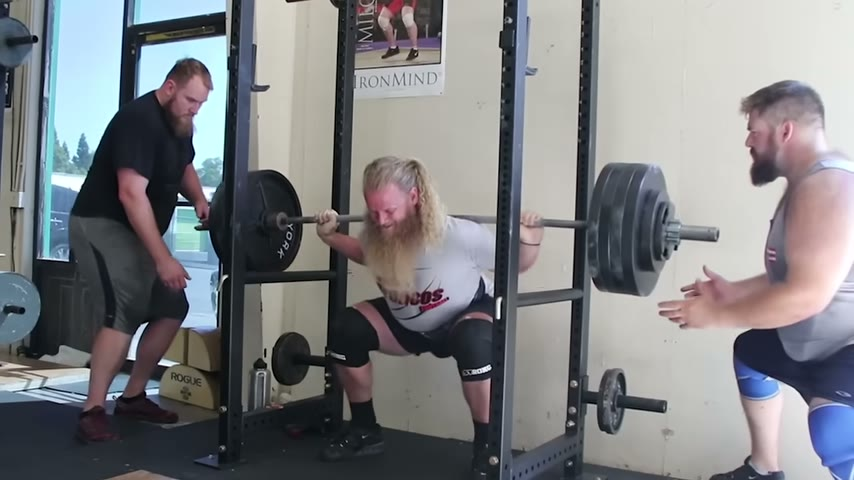barbell_plate_side: (453, 158, 568, 316), (628, 157, 723, 301)
